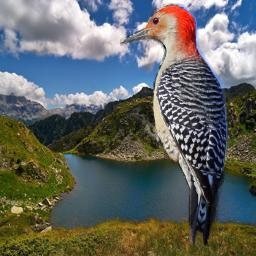Woodpecker: (120, 3, 229, 245)
